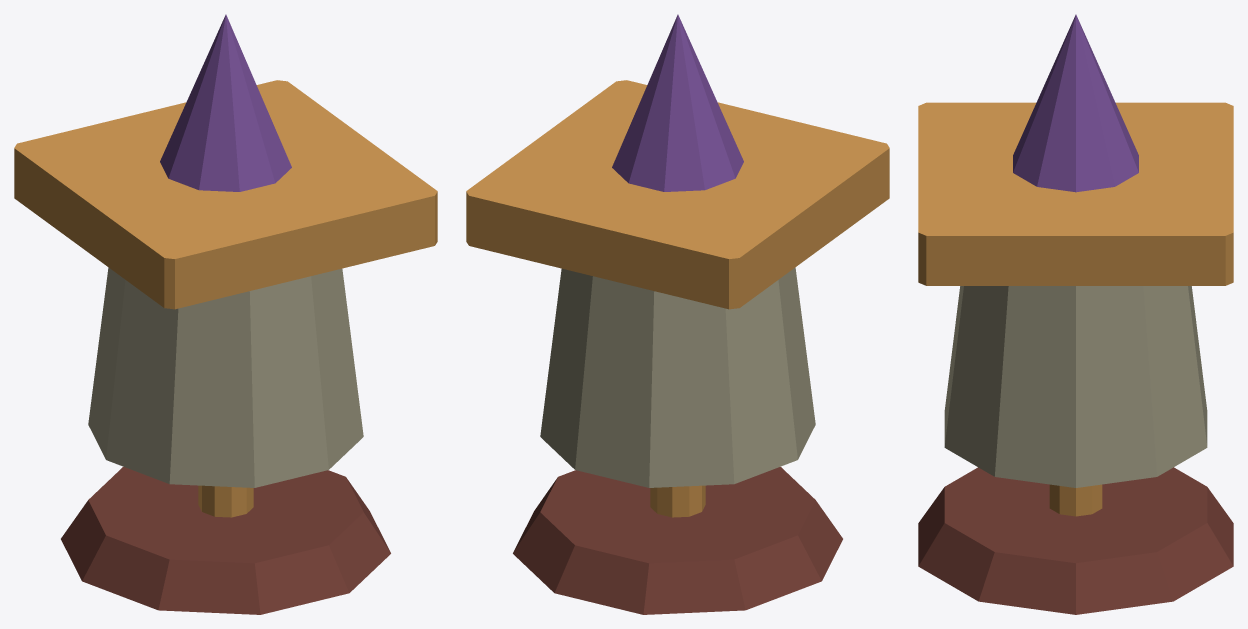
The model's file is ArcanePedestal.fbx.
3 views of the same model, side by side, from view 1: azimuth 30°, elevation 25°; view 2: azimuth 150°, elevation 25°; view 3: azimuth 270°, elevation 25° (orthographic).
Visible parts, largest first — view 1: ArcanePedestal.005; view 2: ArcanePedestal.005; view 3: ArcanePedestal.005.
Boxes of the visible parts, bbox=[...] form: ArcanePedestal.005: bbox=[14, 14, 437, 614]; ArcanePedestal.005: bbox=[466, 14, 889, 614]; ArcanePedestal.005: bbox=[918, 14, 1233, 614].
Size of the model in its own units: 60 by 106 by 57.06.
